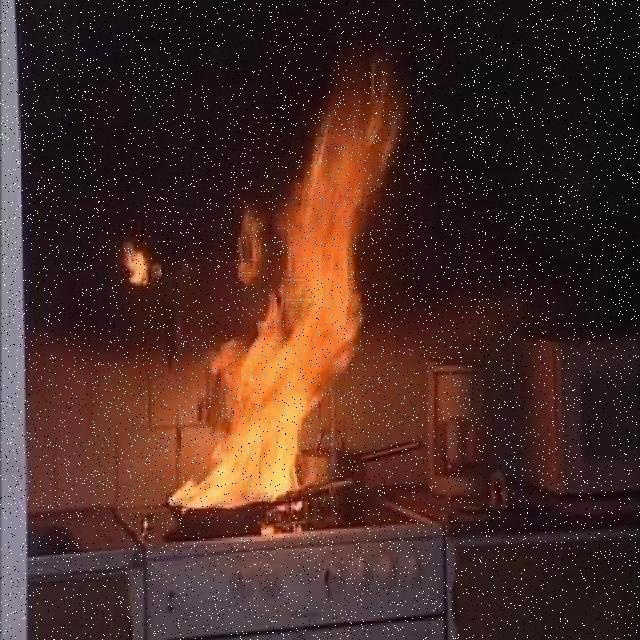fire: (103, 74, 416, 552)
